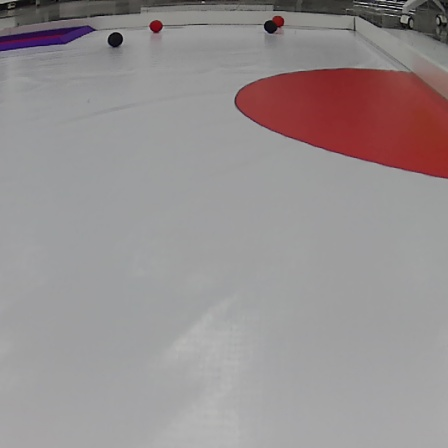black: (106, 33, 122, 45), (264, 20, 277, 32)
red: (274, 17, 286, 27), (149, 22, 164, 29)
red_aim: (0, 26, 101, 46)
red_base: (230, 66, 448, 176)
